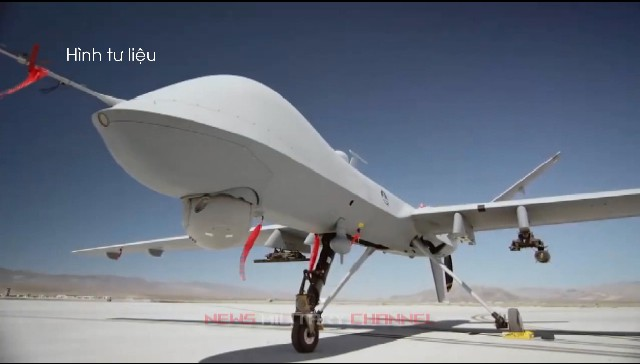maybay_khongnguoilai: (67, 73, 636, 327)
